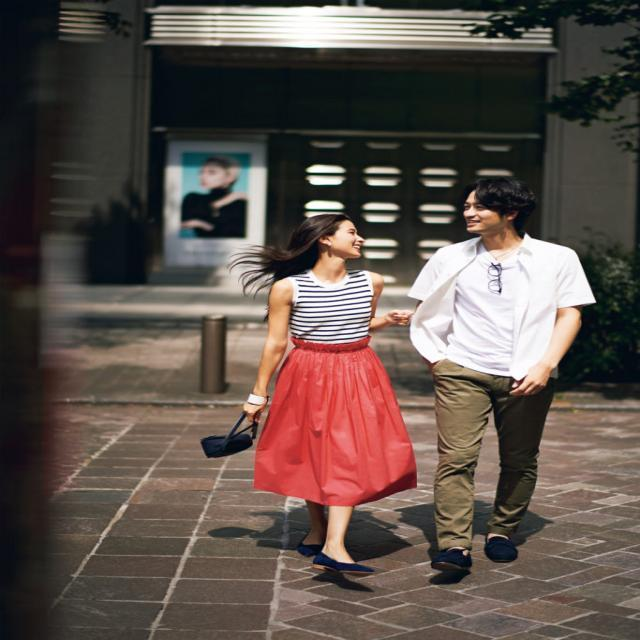direk: (407, 171, 589, 585), (230, 210, 394, 582)
